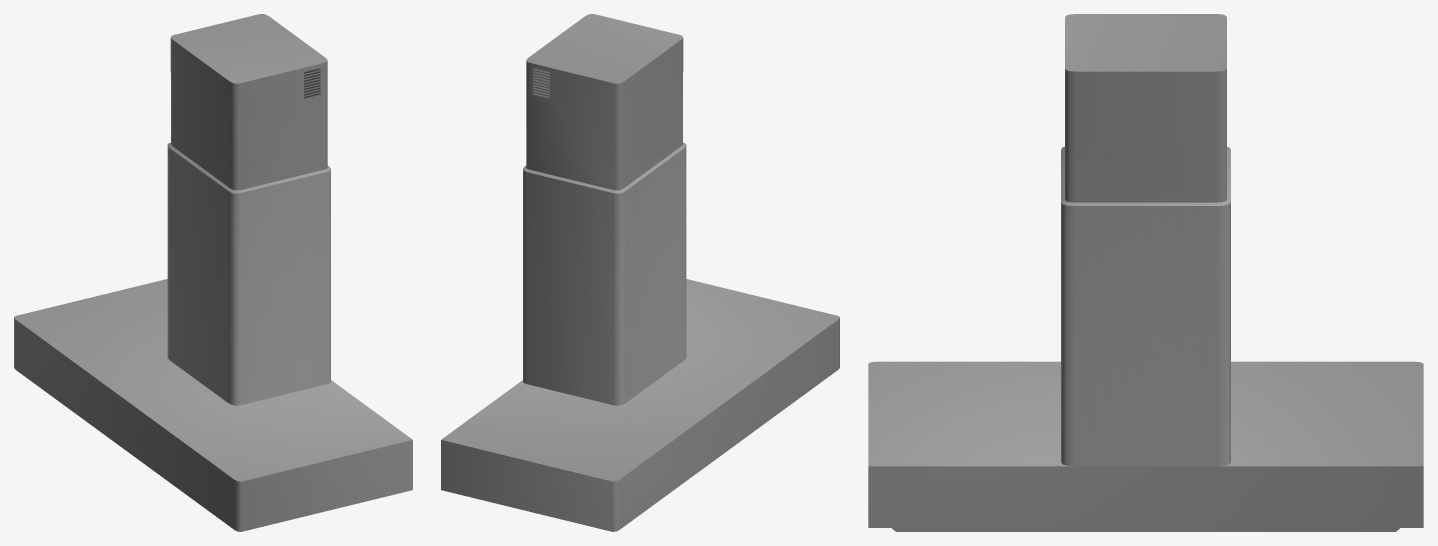
The model's file is aws_Rangehood_01_visual.DAE.
The picture shows the model from 3 angles, left to right: view 1: azimuth 30°, elevation 25°; view 2: azimuth 150°, elevation 25°; view 3: azimuth 270°, elevation 25°; orthographic projection. The views are drawn at different scales.
Parts seen in each view (by area): view 1: aws_Rangehood_01_visual; view 2: aws_Rangehood_01_visual; view 3: aws_Rangehood_01_visual.
Part boxes in pixels (x1,y1,x2,y2): aws_Rangehood_01_visual: [14, 14, 412, 531]; aws_Rangehood_01_visual: [441, 14, 839, 531]; aws_Rangehood_01_visual: [868, 14, 1423, 531].
Bounding box in the file's own units: 55.13 × 124 × 114.
Materials: 1 (1 with a texture image).
